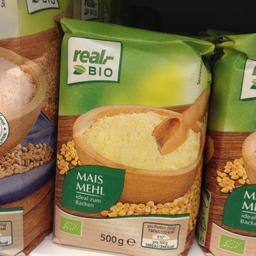flour: (50, 16, 212, 254), (198, 32, 254, 254)
